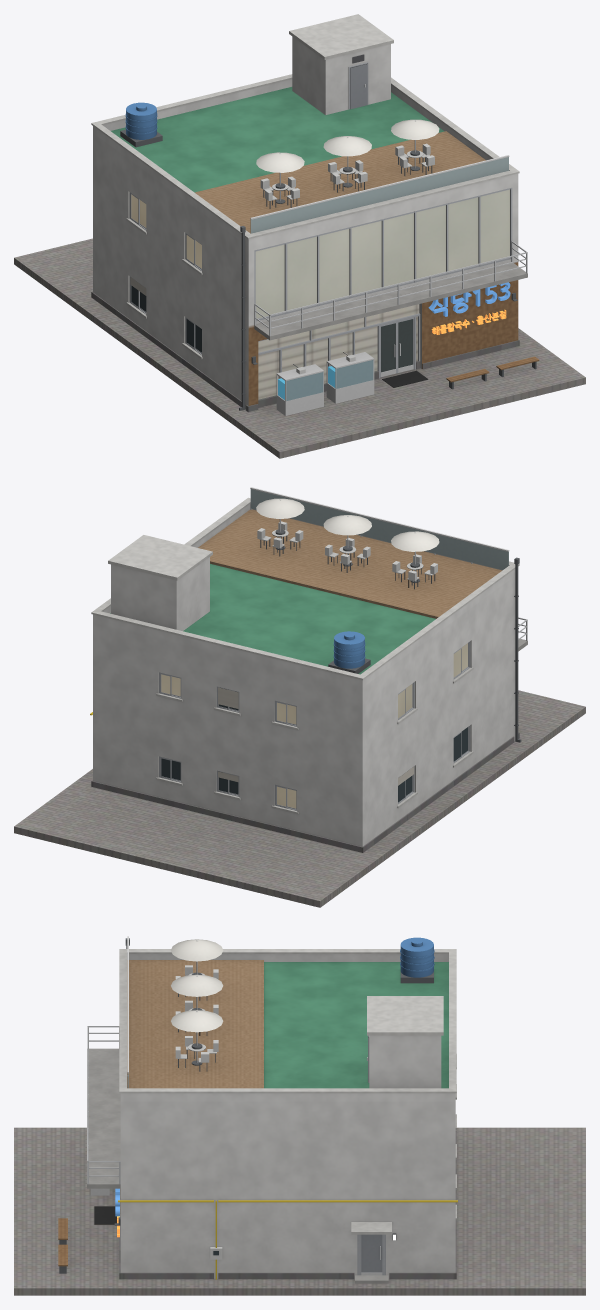
Rendered from IlsanSikdang153.fbx.
3 renders of one model, top to bottom at view 1: azimuth 30°, elevation 25°; view 2: azimuth 150°, elevation 25°; view 3: azimuth 270°, elevation 25°, orthographic. The views are drawn at different scales.
Visible parts, largest first — view 1: IlsanSikdang153; view 2: IlsanSikdang153; view 3: IlsanSikdang153.
Part boxes in pixels (left/top/right/bottom): IlsanSikdang153: left=14, top=14, right=585, bottom=458; IlsanSikdang153: left=14, top=487, right=585, bottom=907; IlsanSikdang153: left=14, top=936, right=585, bottom=1295.
Bounding box in the file's own units: 15.95 × 11.45 × 23.9.
1 material, 1 textured.
